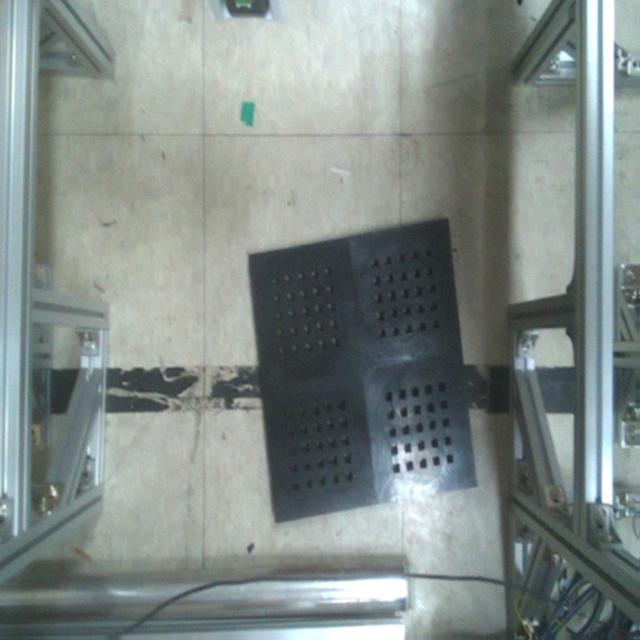pallet: (241, 213, 483, 527)
